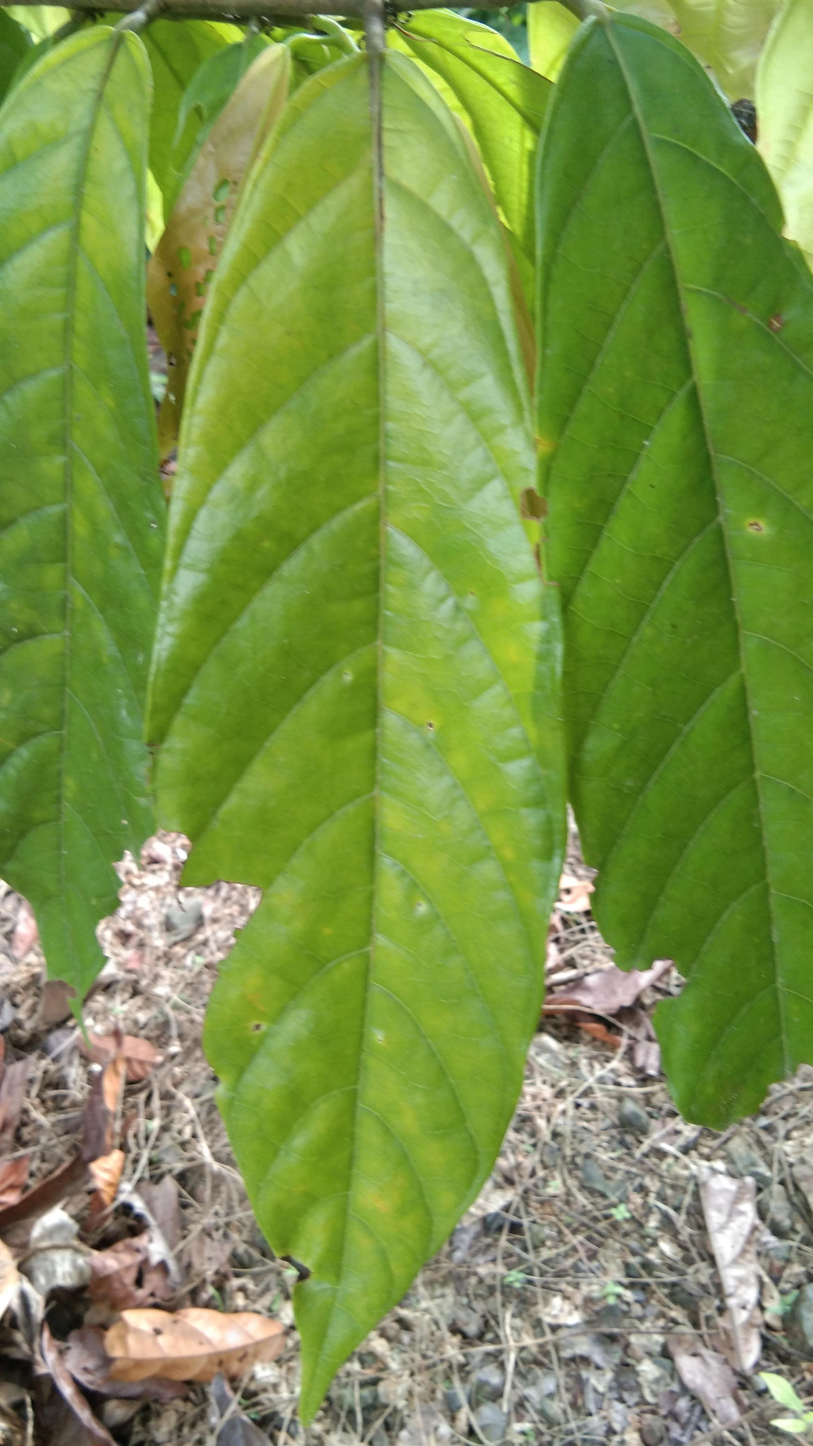deficiencia_potasio: (139, 59, 587, 1408)
